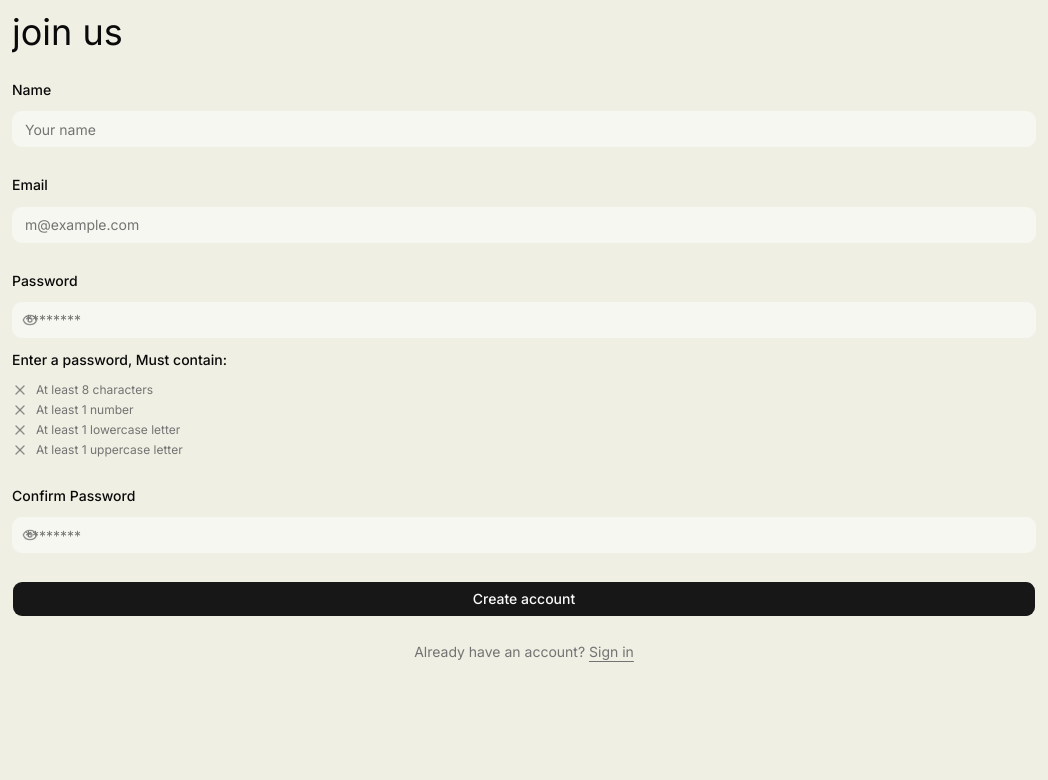
Test: RegisterForm › Password strength indicator › shows 'Weak password' for 'abc' (1 requirement met)
This screenshot has width=1048, height=780.
Type "abc" into the password field labelled "Password" at (524, 320), box [12,302,1036,338]
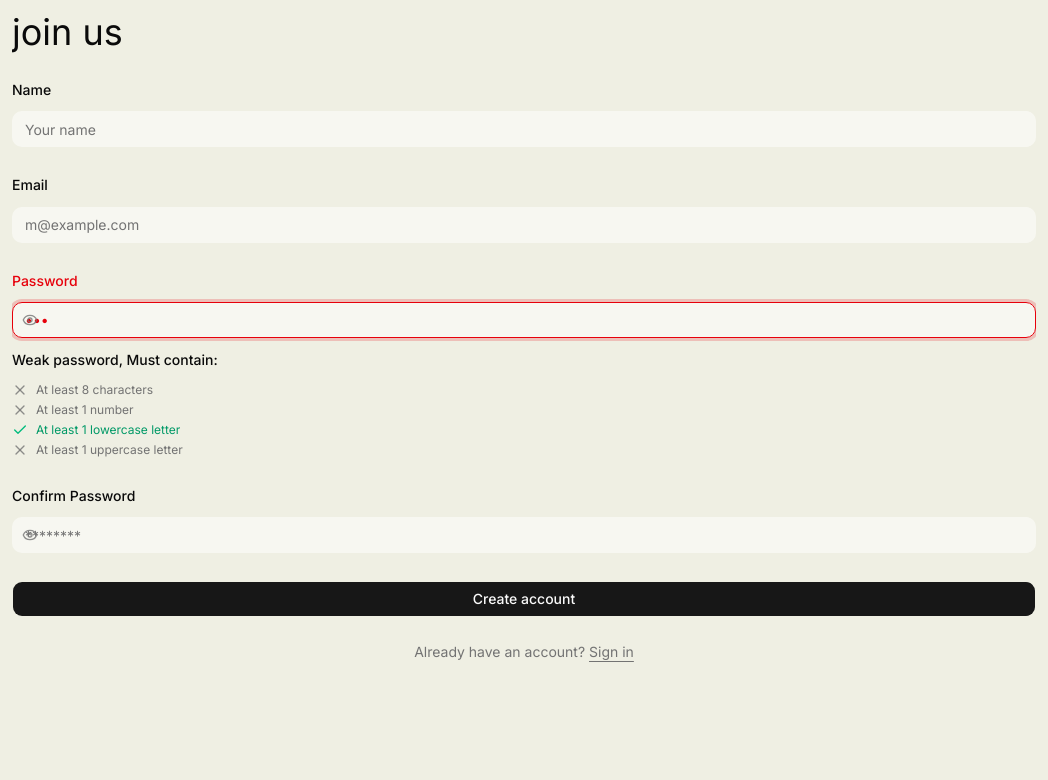
Now the text "Weak password, Must contain:" is shown, box [12,351,218,368]
